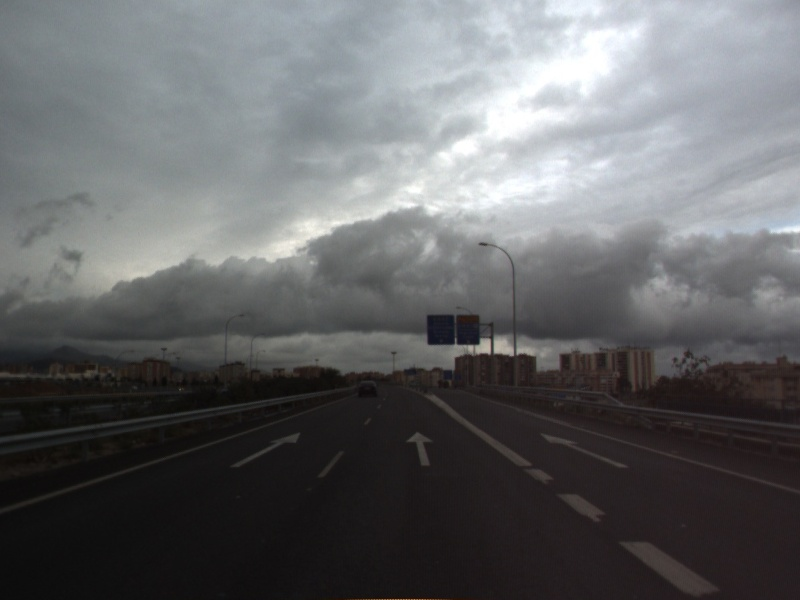STRAIGHT: (539, 431, 631, 470), (228, 430, 303, 470), (404, 429, 436, 468)
